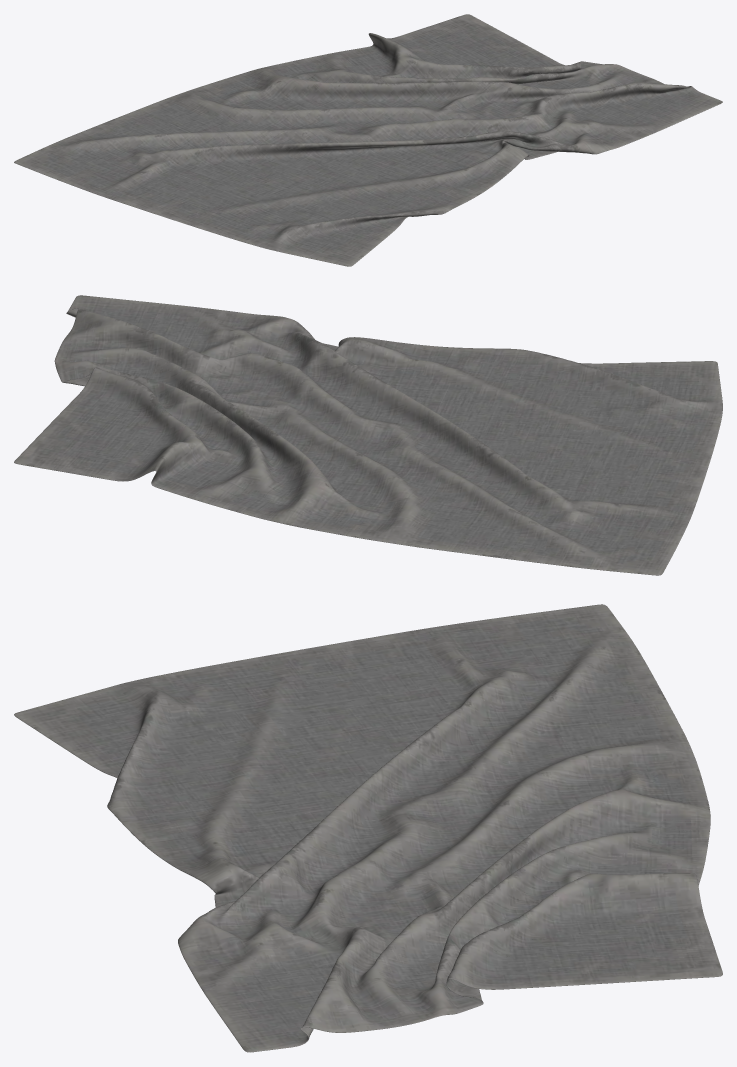
Rendered from carpet-transformed.glb.
3 renders of one model, top to bottom at view 1: azimuth 30°, elevation 25°; view 2: azimuth 150°, elevation 25°; view 3: azimuth 270°, elevation 25°, orthographic. The views are drawn at different scales.
Parts seen in each view (by area): view 1: Plane.001; view 2: Plane.001; view 3: Plane.001.
Boxes of the visible parts, <box> form: Plane.001: <box>14,14,722,266</box>; Plane.001: <box>14,295,722,575</box>; Plane.001: <box>14,604,722,1052</box>.
Bounding box in the file's own units: 13.07 × 0.3501 × 8.74.
1 material, 1 textured.
